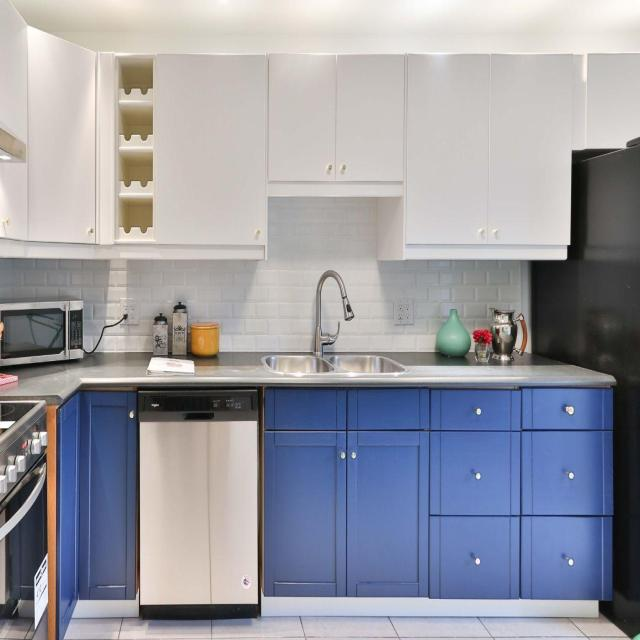dishwasher: (134, 385, 262, 620)
